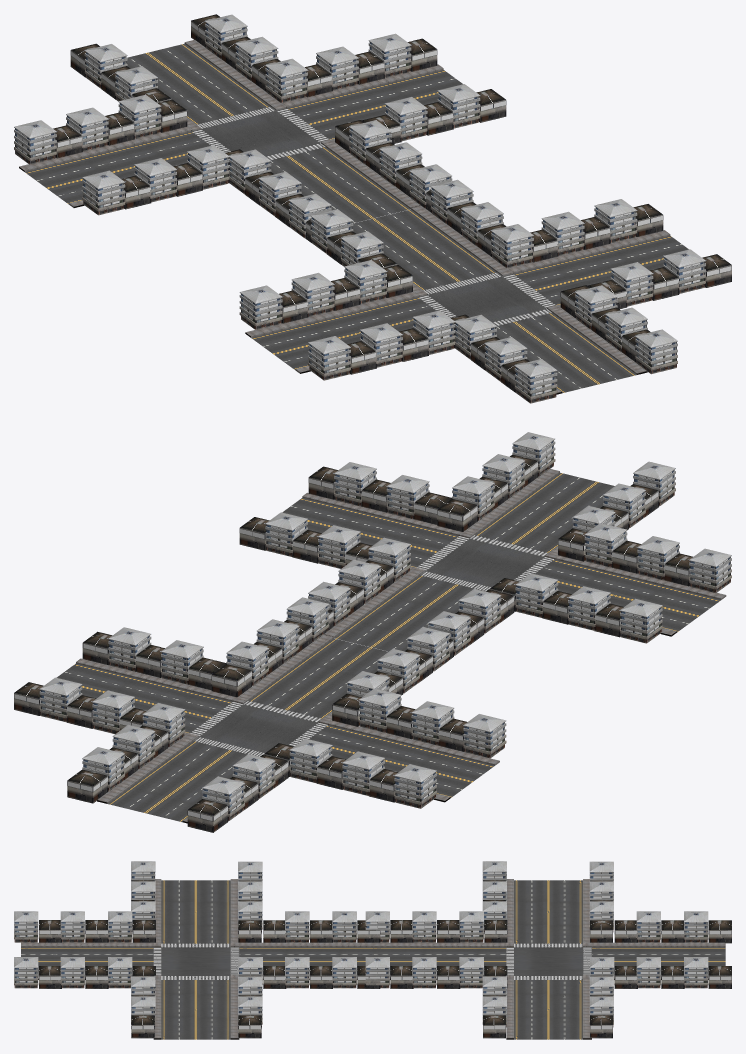
File: street.glb
3 views of the same model, one above another, from view 1: azimuth 30°, elevation 25°; view 2: azimuth 150°, elevation 25°; view 3: azimuth 270°, elevation 25° (orthographic). The views are drawn at different scales.
Visible parts, largest first — view 1: Object_8, Object_2, Object_3, Object_6, Object_7, Object_5, Object_4; view 2: Object_8, Object_2, Object_3, Object_7, Object_6, Object_5, Object_4; view 3: Object_8, Object_2, Object_3, Object_7, Object_6, Object_5, Object_4.
Part boxes in pixels (x1,y1,x2,y2): Object_8: (25,43,688,393); Object_2: (14,33,731,403); Object_3: (70,14,679,309); Object_6: (17,25,701,394); Object_7: (19,39,670,394); Object_5: (55,22,731,380); Object_4: (192,106,555,325); Object_8: (56,472,720,822); Object_2: (14,432,731,808); Object_3: (66,479,506,832); Object_7: (76,469,726,823); Object_6: (44,442,728,811); Object_5: (14,462,690,820); Object_4: (190,535,553,756); Object_8: (21,880,725,1039); Object_2: (14,861,613,1038); Object_3: (131,861,731,1038); Object_7: (21,879,725,1039); Object_6: (18,872,704,1013); Object_5: (39,930,731,1029); Object_4: (153,943,591,979).
Bounding box in the file's own units: 122 × 8.93 × 232.
6 materials, 4 textured.
